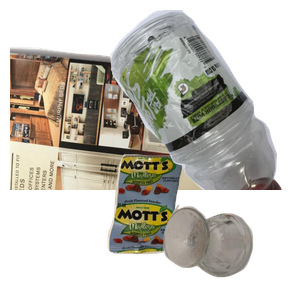glass: (161, 202, 300, 300)
paper: (10, 44, 232, 224)
plastic: (73, 10, 300, 190)
trash: (105, 152, 280, 300)
